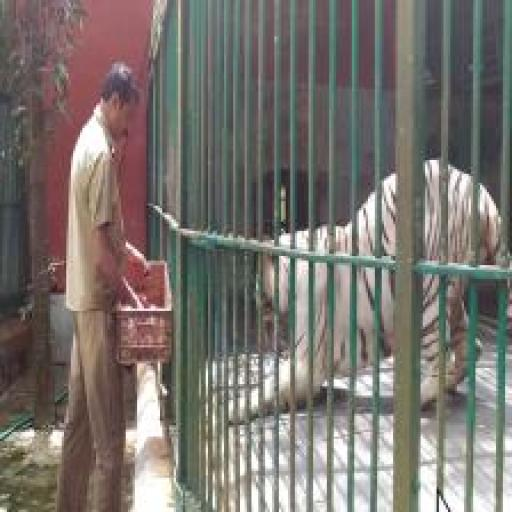Tiger: (226, 160, 511, 430)
